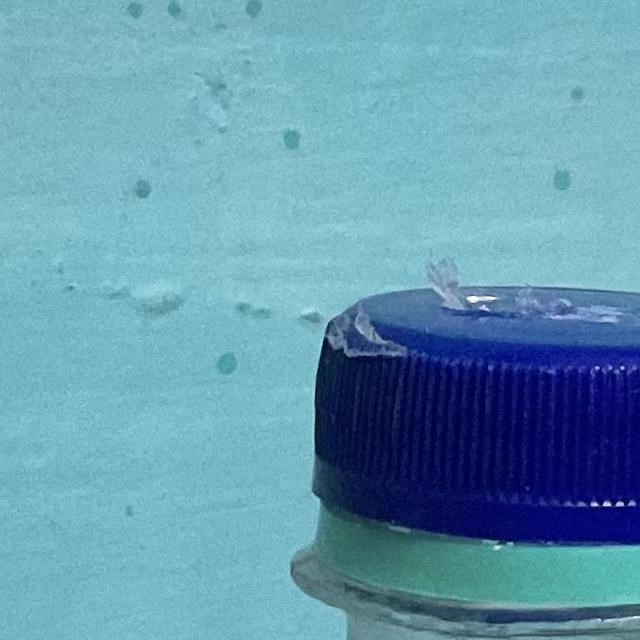Good-cap-Df0S: (307, 257, 640, 618)
